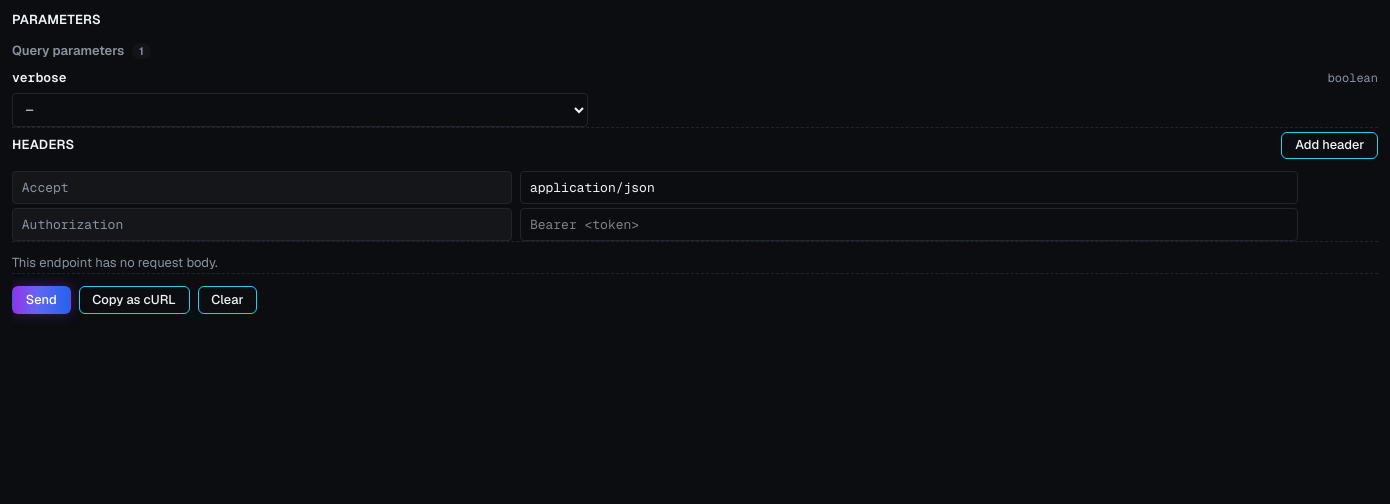
Test: TryItOutForm › shows a proxy error panel for transport failures, not the success response panel
Step 1. Click the button "Send" → click(41, 300), box [12,286,70,314]
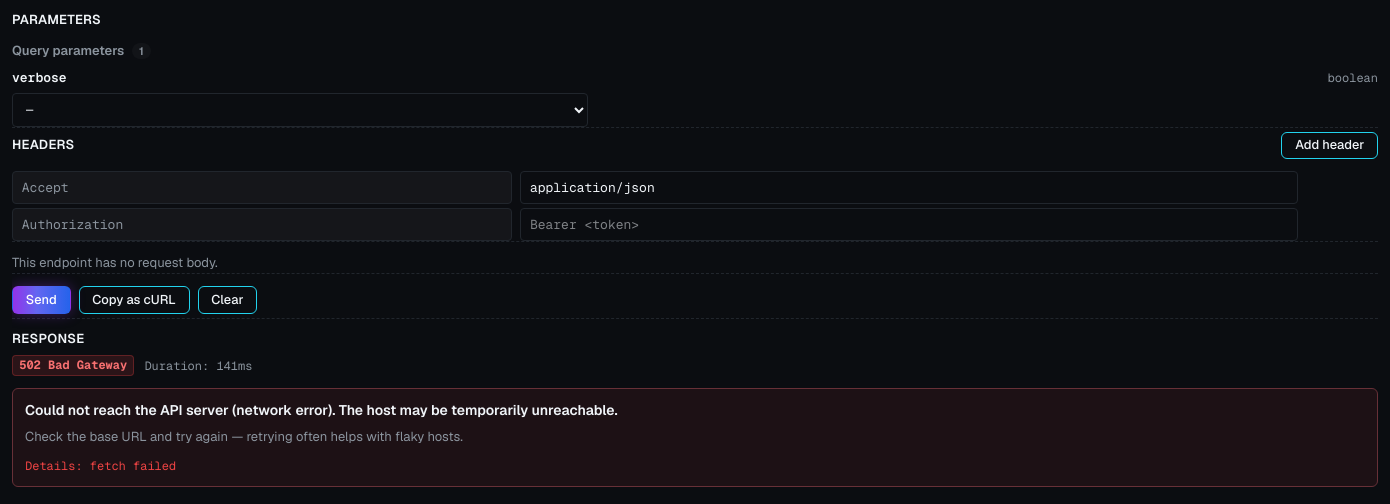
Check: the message "502 Bad Gateway" is shown, box [12,356,134,376]
Check: the 2nd message shows "Could not reach the API server (network error)", box [25,401,618,419]
Check: the text "Details: fetch failed" is shown, box [25,458,176,474]
